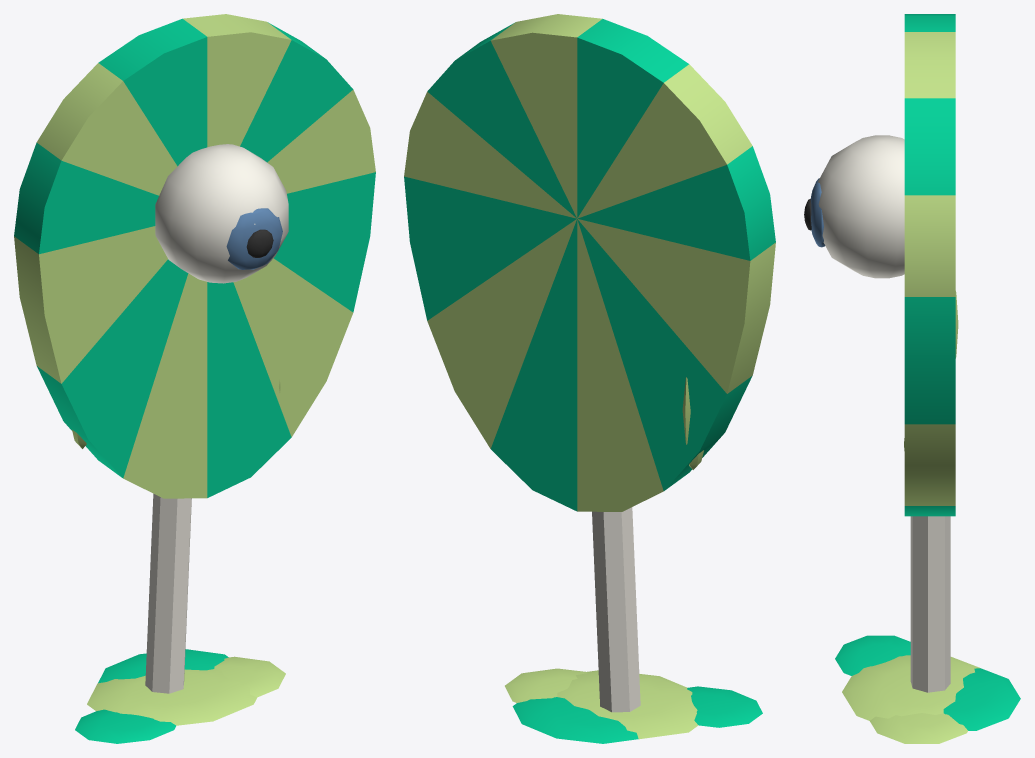
File: TW_EyeLollipop.fbx
3 views of the same model, side by side, from view 1: azimuth 30°, elevation 25°; view 2: azimuth 150°, elevation 25°; view 3: azimuth 270°, elevation 25° (orthographic). The views are drawn at different scales.
Visible parts, largest first — view 1: Body; view 2: Body; view 3: Body.
Boxes of the visible parts, x1=… form: Body: x1=14, y1=14, x2=375, y2=743; Body: x1=404, y1=14, x2=775, y2=743; Body: x1=804, y1=14, x2=1020, y2=743.
Size of the model in its own units: 2.5 by 4.69 by 1.36.
